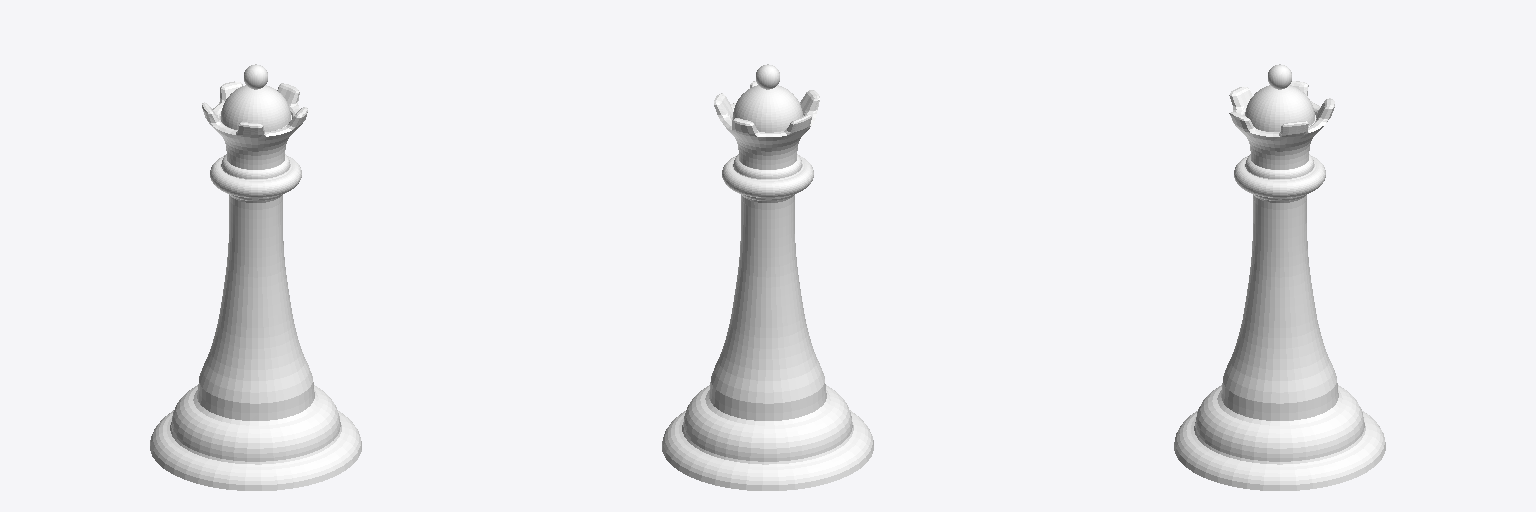
File: finalqueenrrightup8.obj
3 views of the same model, side by side, from view 1: azimuth 30°, elevation 25°; view 2: azimuth 150°, elevation 25°; view 3: azimuth 270°, elevation 25° (orthographic).
Parts seen in each view (by area): view 1: white_queen; view 2: white_queen; view 3: white_queen.
Part boxes in pixels (left/top/right/bottom): white_queen: left=150, top=64, right=361, bottom=490; white_queen: left=662, top=64, right=873, bottom=490; white_queen: left=1174, top=64, right=1385, bottom=490.
Bounding box in the file's own units: 0.5593 × 1.1 × 0.5593.